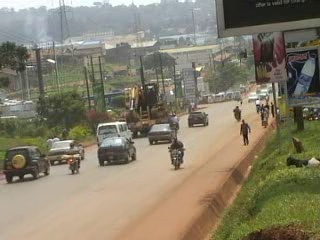Car: (2, 142, 51, 184), (96, 136, 139, 170), (46, 136, 85, 167), (146, 120, 179, 146), (185, 109, 211, 130), (247, 90, 260, 104)
Motorcycle: (62, 141, 83, 175), (167, 135, 187, 170), (166, 110, 180, 131), (231, 103, 243, 123)
